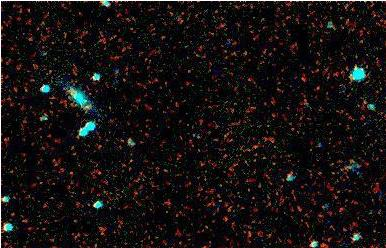star: (73, 93, 103, 123)
